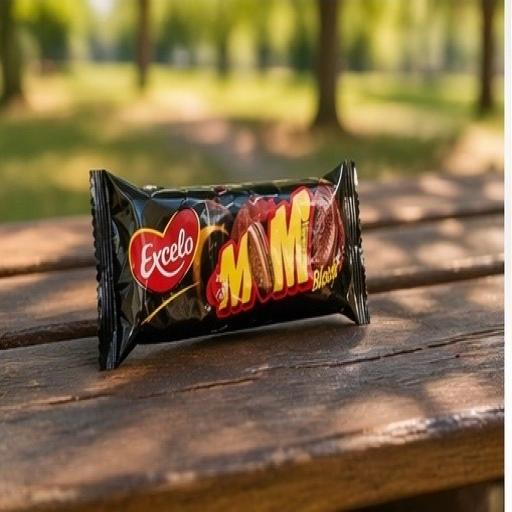MOMO: (74, 98, 397, 407)
